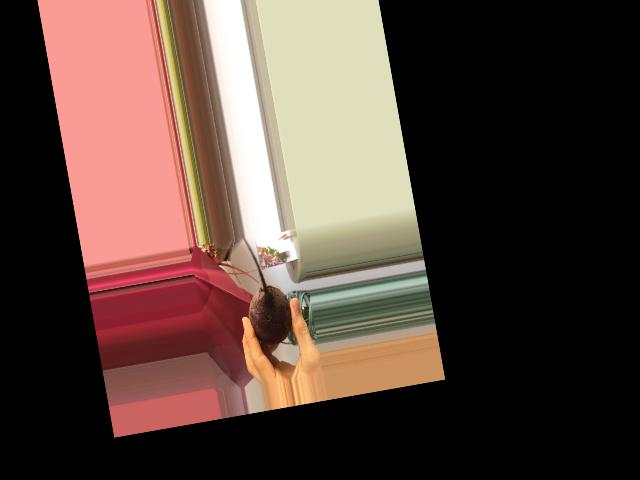beet: (235, 230, 296, 349)
